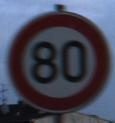Speed Limit -80-: (0, 0, 114, 122)
